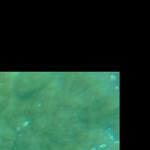alive: (1, 73, 118, 149)
